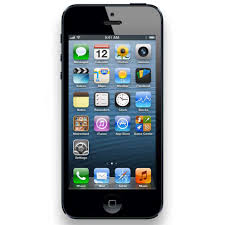iphone: (59, 1, 167, 220)
iphone4: (56, 2, 164, 221)
